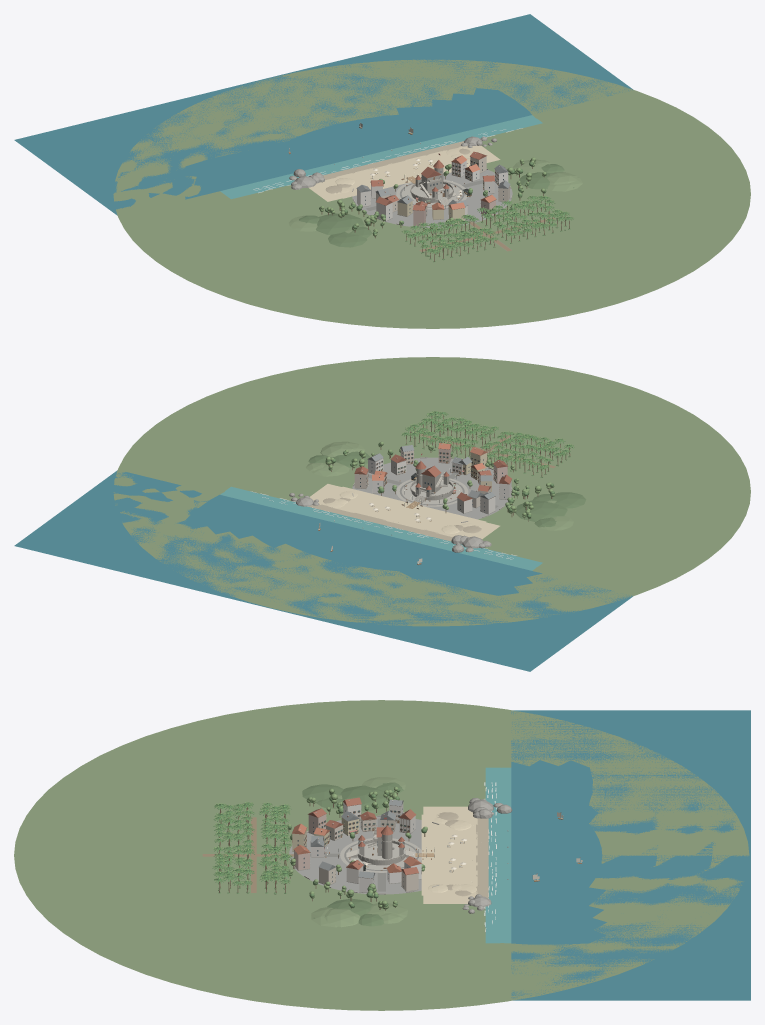
The model's file is town.glb.
3 views of the same model, one above another, from view 1: azimuth 30°, elevation 25°; view 2: azimuth 150°, elevation 25°; view 3: azimuth 270°, elevation 25° (orthographic). The views are drawn at different scales.
Parts seen in each view (by area): view 1: Town; view 2: Town; view 3: Town.
Part boxes in pixels (x1,y1,x2,y2): Town: (14, 14, 750, 328); Town: (14, 357, 750, 671); Town: (14, 700, 750, 1010).
Size of the model in its own units: 460 by 39.22 by 461.
